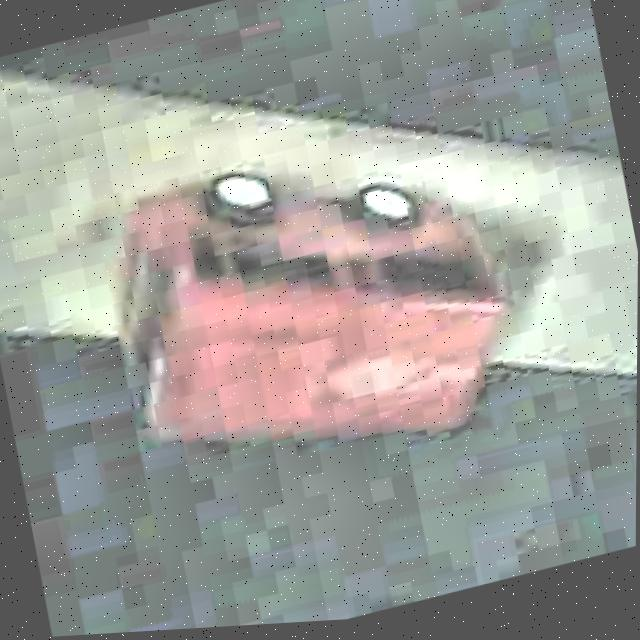bus: (92, 100, 530, 506)
